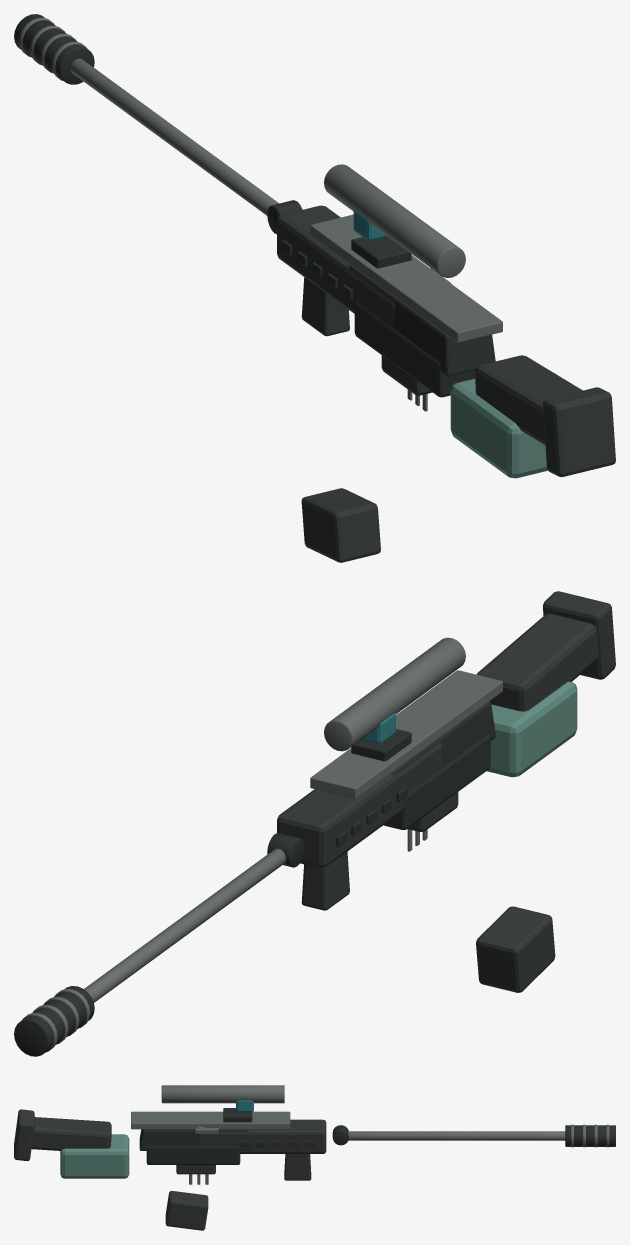
Rendered from awm.glb.
3 views of the same model, one above another, from view 1: azimuth 30°, elevation 25°; view 2: azimuth 150°, elevation 25°; view 3: azimuth 270°, elevation 25° (orthographic). The views are drawn at different scales.
Visible parts, largest first — view 1: TopRail, StockButt, ScopeTube, ThumbholeStock, Handguard, StockBody, SpareMagazineBody, Barrel, UpperReceiver, LowerReceiver, SuppressorBody, ForegripBody (+1 smaller); view 2: TopRail, Handguard, StockBody, ScopeTube, ThumbholeStock, SpareMagazineBody, Barrel, LowerReceiver, SuppressorBody, StockButt, UpperReceiver, ForegripBody (+3 smaller); view 3: Handguard, TopRail, ThumbholeStock, StockBody, ScopeTube, Barrel, LowerReceiver, SpareMagazineBody, UpperReceiver, StockButt, SuppressorBody, ForegripBody (+3 smaller).
Part boxes in pixels (x1,y1,x2,y2): TopRail: (310,214,502,342); StockButt: (543,387,615,476); ScopeTube: (324,164,465,277); ThumbholeStock: (450,378,547,478); Handguard: (277,205,395,327); StockBody: (475,355,582,444); SpareMagazineBody: (301,488,380,562); Barrel: (70,58,278,215); UpperReceiver: (344,265,495,376); LowerReceiver: (354,302,475,397); SuppressorBody: (14,14,94,84); ForegripBody: (301,277,349,336); TopRail: (310,670,502,798); Handguard: (277,742,442,868); StockBody: (476,613,598,711); ScopeTube: (324,637,465,751); ThumbholeStock: (486,681,577,777); SpareMagazineBody: (476,906,555,992); Barrel: (84,848,285,1002); LowerReceiver: (383,734,490,829); SuppressorBody: (14,986,94,1056); StockButt: (543,591,615,679); UpperReceiver: (390,701,495,810); ForegripBody: (301,851,349,910); Handguard: (197,1119,326,1153); TopRail: (131,1111,290,1129); ThumbholeStock: (60,1134,129,1178); StockBody: (31,1117,111,1150); ScopeTube: (161,1085,284,1103); Barrel: (348,1131,565,1140); LowerReceiver: (146,1146,240,1164); SpareMagazineBody: (165,1191,208,1230); UpperReceiver: (139,1129,250,1150); StockButt: (14,1109,34,1160); SuppressorBody: (565,1125,615,1146); ForegripBody: (284,1154,311,1180).
Size of the model in its own units: 0.495 by 0.9926 by 3.33.
